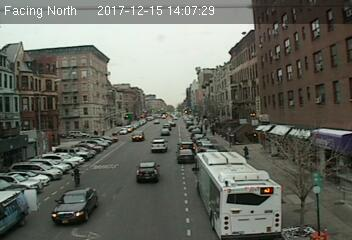bicycle: (72, 167, 82, 187)
bus: (195, 151, 284, 237)
car: (50, 188, 98, 226), (135, 161, 159, 182), (175, 148, 194, 164), (150, 138, 168, 151), (178, 141, 195, 149), (131, 131, 144, 140)
pedestrian: (241, 144, 252, 162)
truck: (1, 186, 34, 236)
